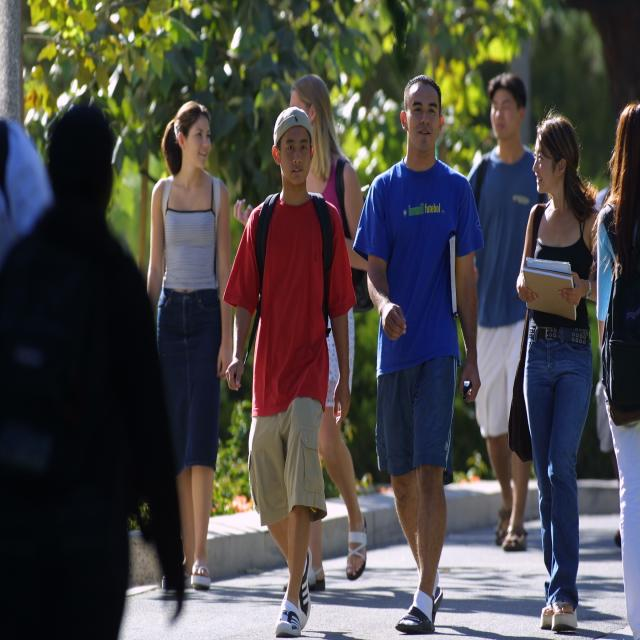body: (0, 98, 186, 640), (350, 71, 487, 638), (220, 103, 360, 640), (233, 74, 367, 593), (141, 99, 235, 594), (514, 108, 600, 636), (462, 71, 547, 553), (595, 99, 640, 639), (0, 110, 55, 261)
